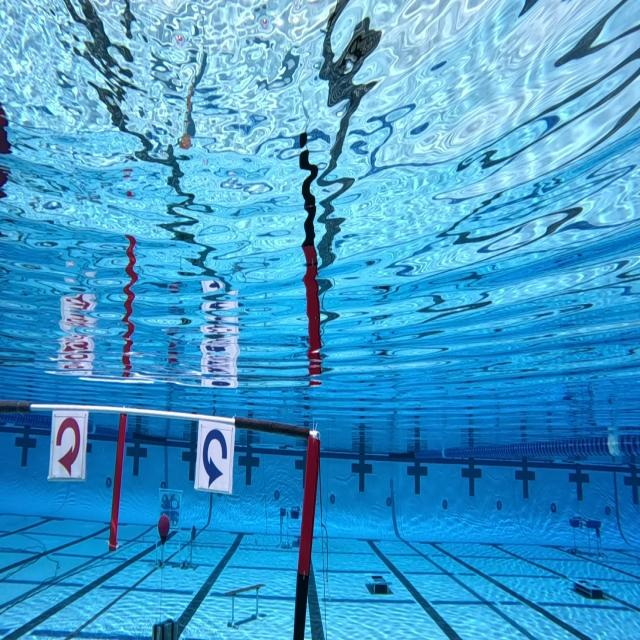blue_side: (194, 416, 238, 501)
red_side: (48, 403, 90, 483)
